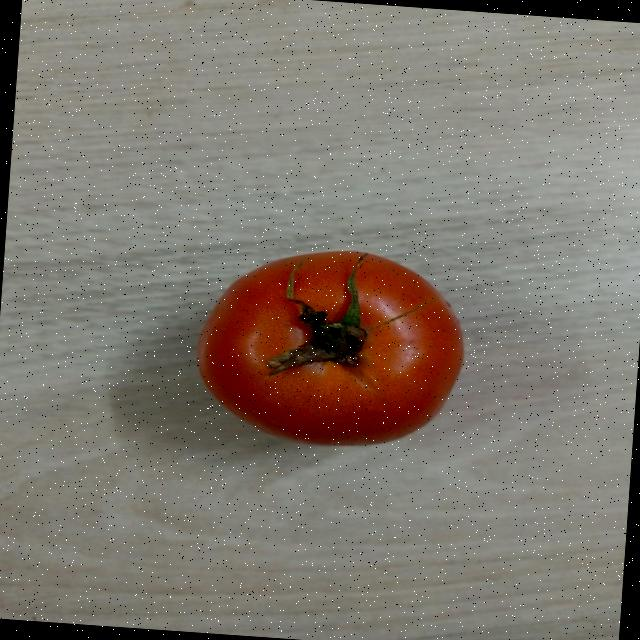Tomato: (188, 238, 472, 456)
